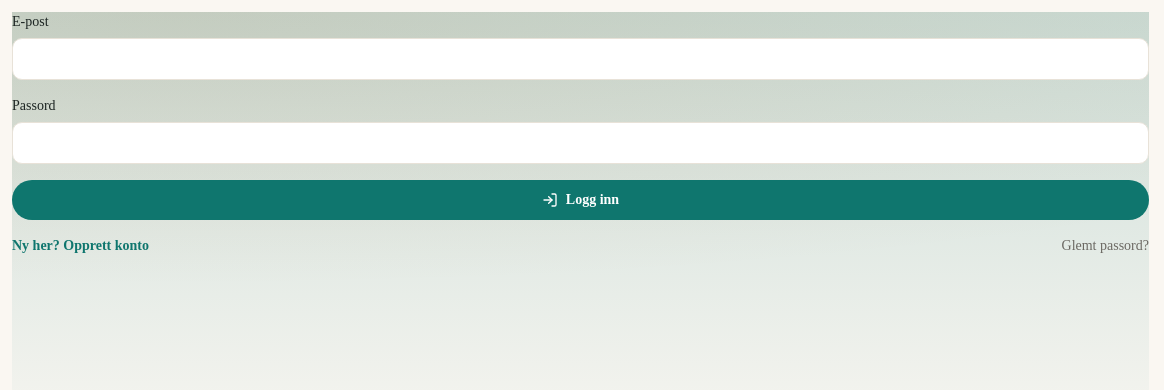
it: EmailAuthForm › translates the failure instead of showing Supabase prose
In the field labelled "E-post": (580, 59) [12,38,1149,80], type "ola@example.no"
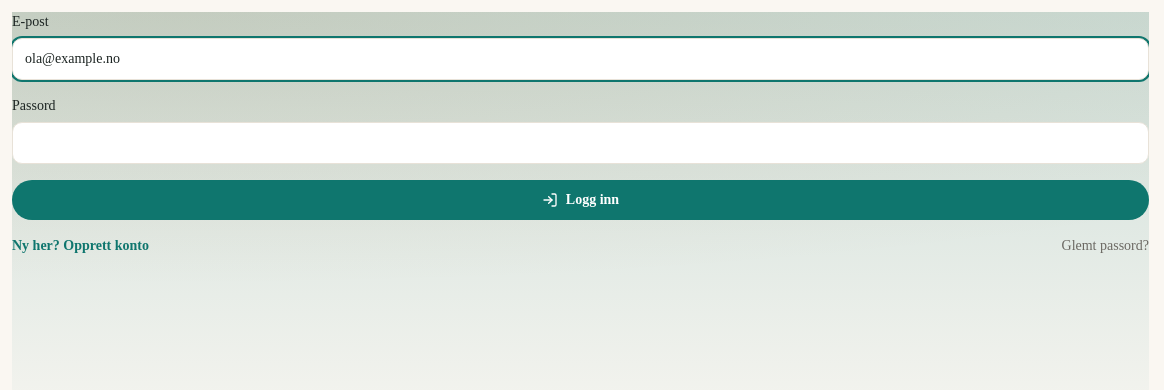
In the password field labelled "Passord": (580, 143) [12,122,1149,164], type "feil"
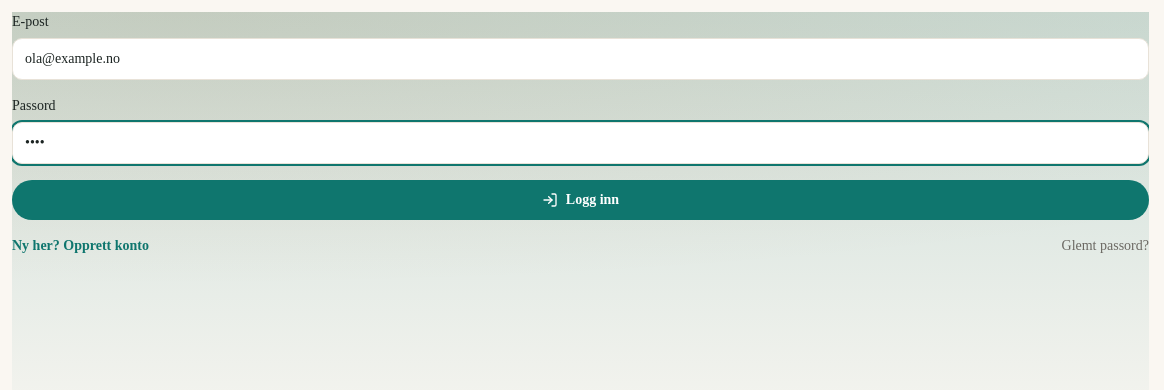
Click the button "Logg inn": (580, 200) [12,180,1149,220]
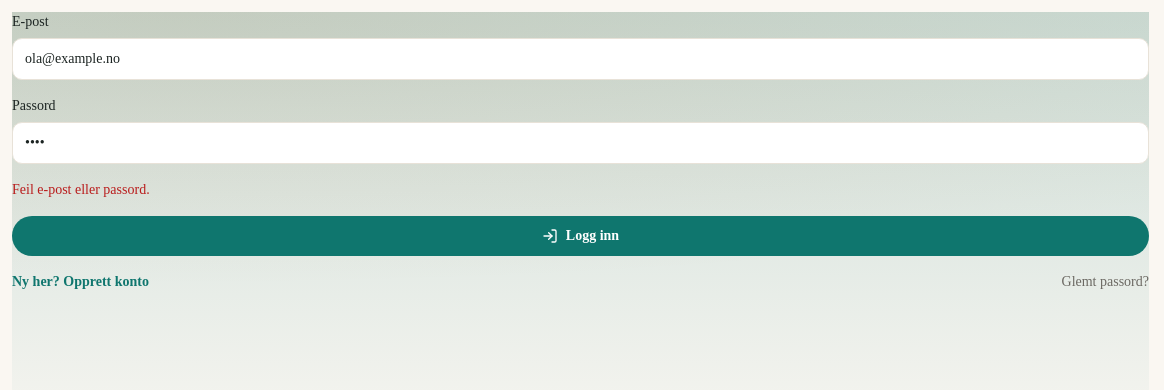
Expected: the text "Feil e-post eller passord." is shown, [12,182,150,197]
